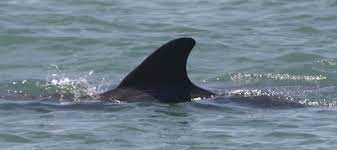fin: (62, 29, 313, 126)
